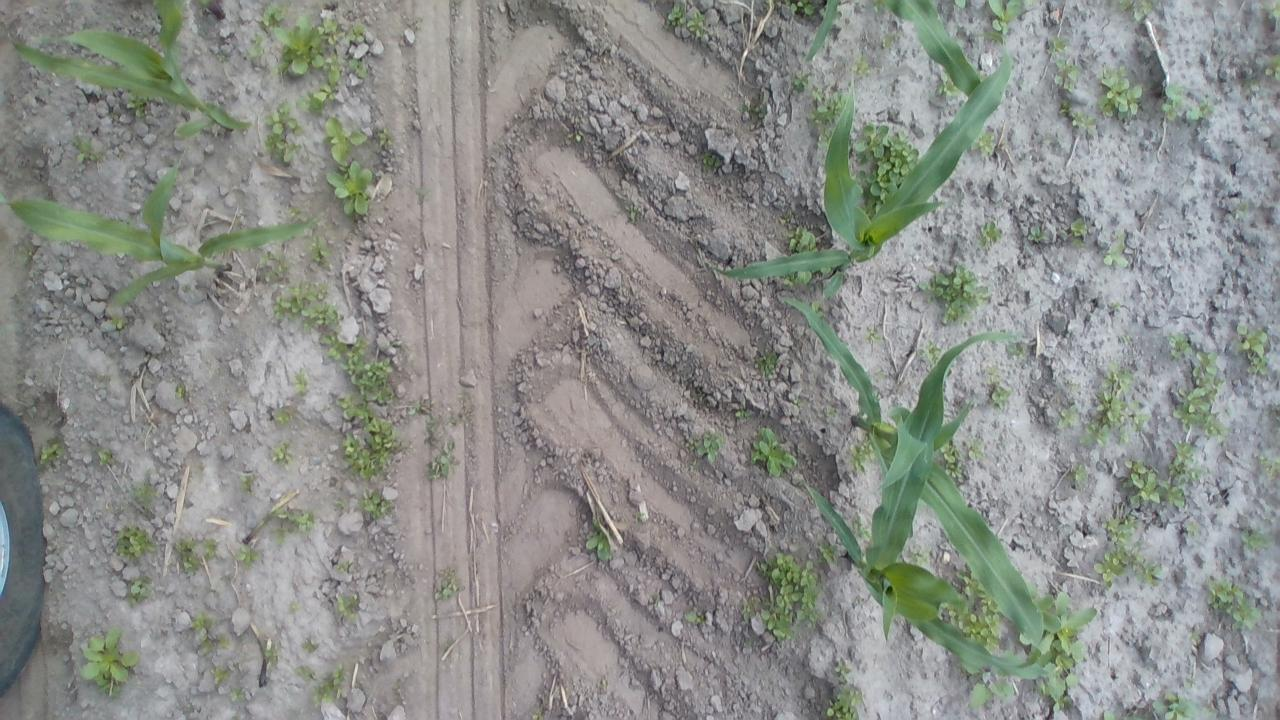Maize: (778, 289, 1042, 669), (800, 330, 1060, 682), (708, 26, 1014, 302), (0, 150, 322, 304), (9, 0, 252, 139), (804, 0, 982, 96)
Weeds: (1018, 580, 1099, 712), (849, 123, 918, 220), (756, 552, 823, 642), (938, 564, 1002, 655), (77, 626, 140, 697), (917, 265, 990, 325), (342, 335, 396, 406), (341, 417, 400, 480), (269, 11, 325, 77), (1172, 386, 1231, 443), (1205, 577, 1261, 630), (1078, 390, 1130, 447), (261, 100, 304, 163), (960, 660, 1016, 708), (326, 160, 372, 215), (749, 428, 799, 478), (1097, 67, 1142, 120), (322, 115, 368, 166), (1120, 458, 1165, 507), (274, 280, 326, 320), (978, 0, 1022, 43), (684, 428, 726, 472), (806, 83, 850, 125), (1236, 323, 1270, 376), (310, 662, 348, 708), (1094, 541, 1130, 588), (114, 526, 157, 564), (1130, 542, 1163, 588), (1168, 442, 1204, 484), (296, 82, 339, 116), (262, 505, 315, 532), (1150, 691, 1198, 720), (584, 516, 614, 562), (826, 683, 863, 720), (300, 301, 342, 333), (1191, 350, 1224, 386), (1100, 361, 1134, 394), (356, 487, 391, 518), (334, 392, 370, 422), (427, 441, 454, 480), (936, 438, 962, 478), (1101, 516, 1138, 544), (849, 435, 876, 473), (1052, 56, 1080, 92), (71, 134, 103, 165), (1102, 231, 1129, 267), (173, 538, 200, 573), (969, 127, 1000, 157), (128, 482, 160, 511), (786, 226, 819, 254), (976, 220, 1004, 252), (306, 234, 332, 266), (1161, 84, 1184, 120), (1116, 0, 1154, 21), (37, 438, 65, 466), (318, 17, 346, 44), (321, 331, 347, 359), (128, 575, 152, 605), (336, 595, 361, 623), (270, 439, 294, 468), (1070, 110, 1098, 134), (664, 2, 687, 31), (1240, 528, 1270, 550), (935, 73, 961, 98), (233, 544, 260, 568), (1163, 481, 1187, 508), (323, 52, 343, 84), (916, 340, 940, 366), (797, 0, 828, 20), (686, 10, 708, 38), (1068, 219, 1089, 248), (851, 514, 872, 543), (1168, 331, 1192, 356), (261, 2, 286, 26), (1186, 98, 1213, 120), (435, 572, 456, 600), (126, 90, 148, 116), (261, 638, 280, 668), (1056, 403, 1078, 428), (816, 540, 838, 565), (756, 352, 778, 376), (989, 385, 1010, 410), (1259, 453, 1280, 478), (782, 270, 814, 286), (247, 31, 265, 58), (92, 445, 114, 466), (1045, 34, 1068, 54), (790, 72, 810, 95), (265, 264, 290, 282), (18, 241, 34, 269), (850, 53, 870, 75), (964, 437, 984, 459), (834, 657, 851, 682), (910, 545, 930, 566), (189, 611, 211, 630), (211, 666, 231, 686), (348, 59, 368, 79), (816, 124, 832, 148), (258, 248, 282, 264), (1132, 413, 1150, 434), (294, 367, 308, 394), (700, 153, 721, 171), (1266, 55, 1280, 81), (742, 596, 756, 622), (238, 473, 257, 492), (1006, 342, 1026, 360), (1068, 463, 1086, 482), (348, 23, 366, 42), (985, 364, 1002, 384), (683, 611, 707, 625), (270, 526, 285, 548), (1262, 0, 1280, 18), (864, 326, 882, 344), (622, 203, 640, 221), (378, 127, 395, 146), (424, 413, 440, 433), (1026, 226, 1046, 242), (273, 410, 292, 426), (880, 34, 899, 50), (734, 404, 754, 419), (752, 100, 766, 120), (203, 538, 217, 557), (200, 634, 214, 653), (296, 664, 312, 680), (110, 314, 127, 329), (336, 558, 354, 572), (217, 632, 230, 649), (566, 130, 584, 142), (231, 688, 246, 702), (174, 384, 188, 399), (1058, 98, 1071, 114), (811, 300, 822, 318), (302, 640, 317, 653), (779, 209, 792, 224), (1188, 628, 1200, 644), (1186, 520, 1198, 535), (783, 0, 797, 12), (286, 206, 302, 216), (1202, 705, 1214, 718), (872, 0, 884, 13), (1101, 710, 1116, 720), (950, 0, 968, 8), (1236, 203, 1248, 215), (873, 369, 886, 380), (122, 216, 136, 226), (792, 398, 806, 408), (410, 402, 420, 414), (1066, 380, 1078, 390), (826, 406, 836, 418), (216, 50, 226, 62), (1120, 334, 1131, 344), (1123, 715, 1145, 720), (976, 71, 987, 81), (416, 187, 429, 195), (635, 512, 645, 522), (1130, 400, 1140, 410), (1246, 78, 1258, 86), (820, 266, 831, 274), (740, 103, 749, 112), (290, 602, 300, 610), (1112, 301, 1122, 308), (333, 498, 342, 505), (119, 503, 128, 510), (835, 10, 842, 18), (1024, 0, 1035, 5), (765, 0, 770, 11)
